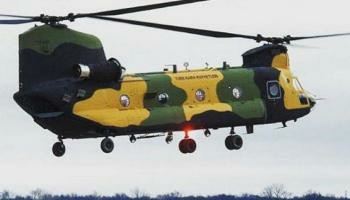chinook: (2, 4, 350, 157)
